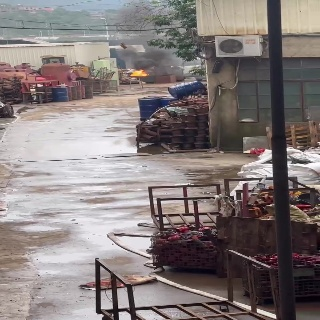fire: (130, 69, 147, 76)
